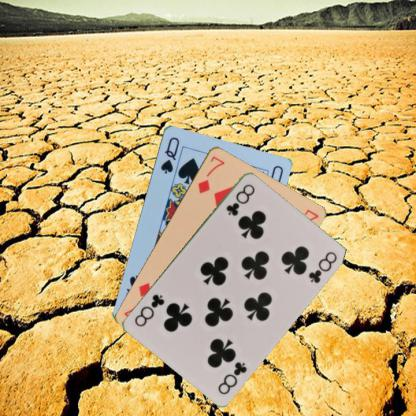7d: (195, 153, 226, 195)
8c: (215, 358, 248, 396), (223, 181, 256, 217)
Qs: (158, 134, 180, 175)
